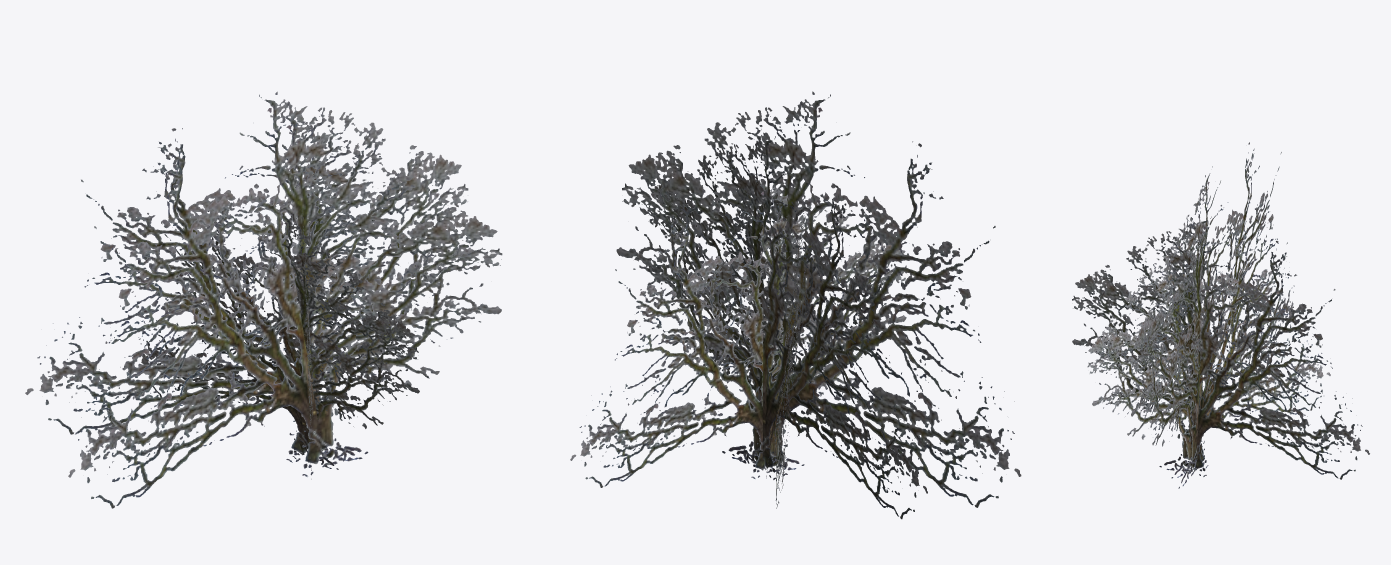
The model's file is arvore_morta.glb.
The picture shows the model from 3 angles, left to right: view 1: azimuth 30°, elevation 25°; view 2: azimuth 150°, elevation 25°; view 3: azimuth 270°, elevation 25°; orthographic projection. The views are drawn at different scales.
Visible parts, largest first — view 1: arvore_morta; view 2: arvore_morta; view 3: arvore_morta.
Part boxes in pixels (<box>): arvore_morta: <box>25,91,502,508</box>; arvore_morta: <box>570,91,1021,519</box>; arvore_morta: <box>1072,142,1369,488</box>.
Size of the model in its own units: 10.29 by 10 by 7.84.
Materials: 1 (1 with a texture image).
